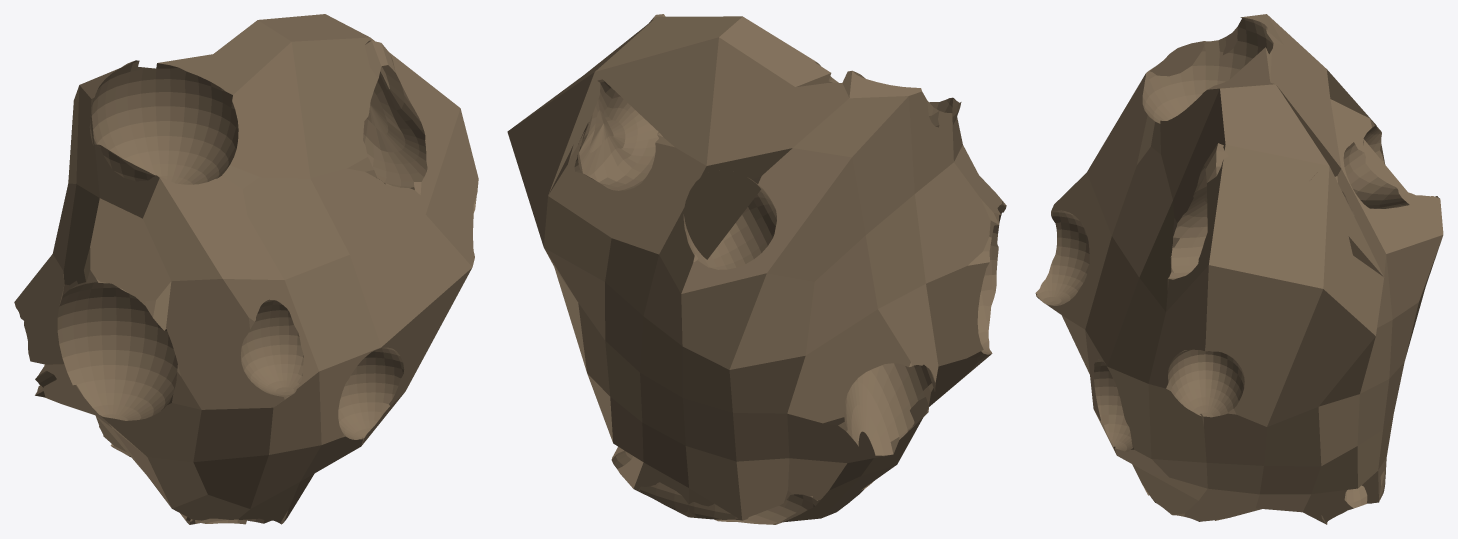
Rendered from meteor.fbx.
3 views of the same model, side by side, from view 1: azimuth 30°, elevation 25°; view 2: azimuth 150°, elevation 25°; view 3: azimuth 270°, elevation 25° (orthographic). The views are drawn at different scales.
Visible parts, largest first — view 1: Cube; view 2: Cube; view 3: Cube.
Part boxes in pixels (x1,y1,x2,y2): Cube: [14, 14, 478, 524]; Cube: [507, 14, 1006, 524]; Cube: [1035, 14, 1443, 524].
Bounding box in the file's own units: 955 × 1033 × 835.
